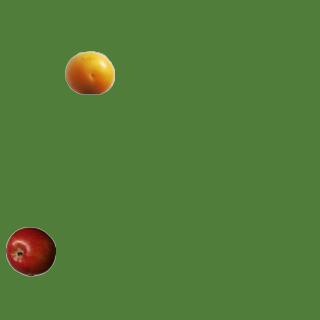Apple Braeburn: (5, 226, 55, 276)
Cherry Wax Yellow: (64, 47, 114, 97)
